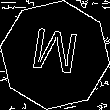M_S: (28, 26, 82, 84)
